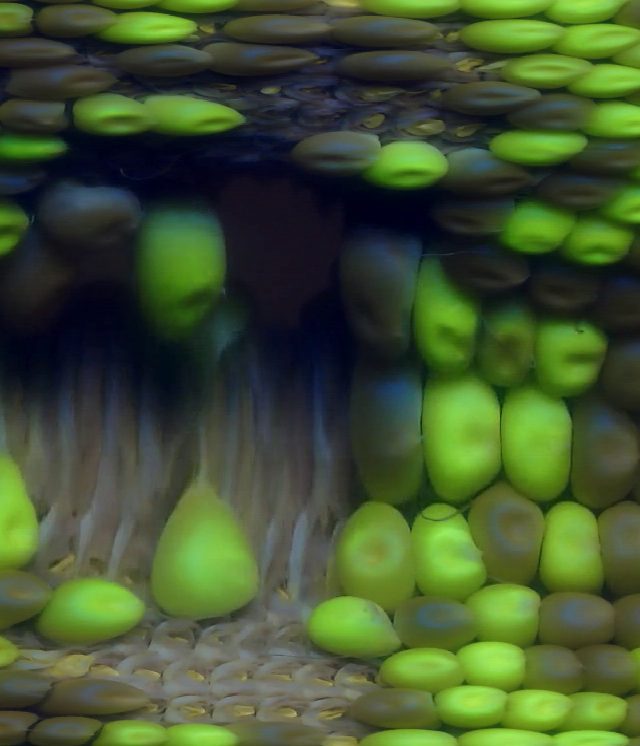fluorescent: (150, 483, 260, 625), (137, 197, 234, 338), (416, 371, 501, 512), (498, 383, 578, 511), (327, 500, 423, 605), (411, 243, 483, 373), (407, 507, 490, 600), (44, 576, 151, 644), (537, 507, 610, 603), (527, 314, 611, 397), (0, 451, 41, 575), (307, 596, 393, 653), (140, 90, 240, 137), (483, 302, 534, 390), (505, 199, 577, 259), (488, 127, 589, 169), (370, 139, 448, 193), (71, 95, 158, 142), (466, 588, 541, 642), (498, 687, 578, 735), (96, 10, 197, 45), (570, 216, 637, 268), (500, 53, 584, 94), (381, 651, 465, 691), (565, 682, 634, 730), (434, 682, 507, 727), (555, 23, 640, 59), (571, 60, 640, 99), (161, 717, 253, 746), (457, 642, 519, 685), (581, 99, 640, 143), (464, 21, 554, 49), (354, 1, 465, 23), (0, 131, 75, 162), (361, 728, 488, 746), (104, 716, 174, 746), (0, 205, 33, 260), (552, 1, 625, 25), (463, 1, 563, 17), (0, 1, 39, 39)
nonfluorescent: (351, 358, 434, 502), (337, 223, 420, 355), (468, 485, 549, 584), (570, 398, 636, 502), (0, 239, 71, 334), (40, 186, 144, 247), (331, 47, 455, 89), (398, 598, 489, 653), (205, 40, 333, 78), (44, 674, 155, 717), (443, 155, 538, 203), (6, 66, 119, 104), (446, 243, 526, 294), (295, 134, 386, 178), (330, 12, 439, 48), (535, 168, 619, 213), (530, 260, 599, 314), (596, 505, 640, 588), (432, 198, 520, 239), (537, 599, 620, 642), (575, 641, 640, 693), (596, 335, 640, 411), (524, 643, 587, 695), (115, 47, 211, 80), (348, 690, 443, 723), (0, 571, 52, 629), (451, 81, 545, 113), (520, 94, 597, 133), (226, 14, 327, 43), (232, 717, 331, 746), (35, 4, 128, 33), (596, 274, 640, 333), (0, 35, 79, 67), (0, 671, 56, 715), (0, 104, 76, 134), (579, 139, 640, 176)
